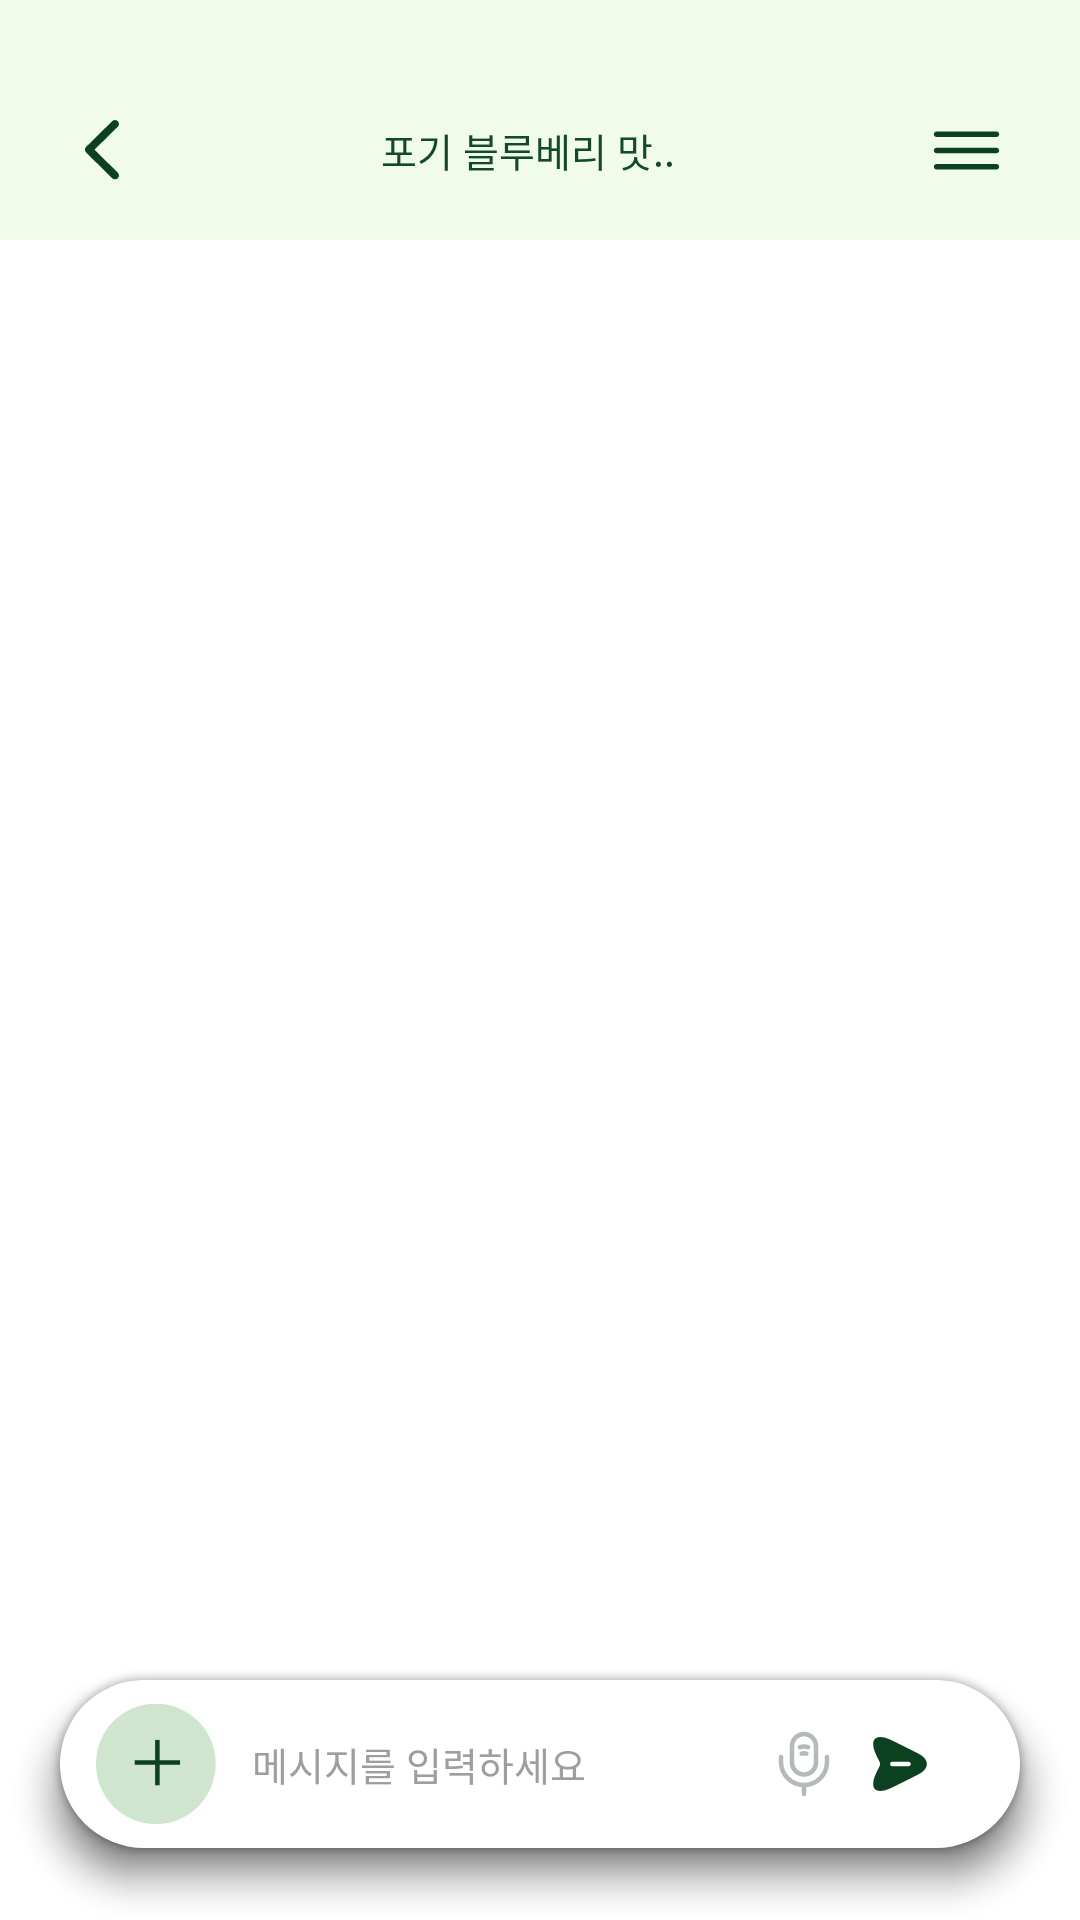

Named icons in this screenshot (1080 × 1920) and their centers, point (x, y):
뒤로가기: point (102, 150)
메뉴 열기: point (966, 150)
음성 검색: point (804, 1764)
추가: point (156, 1764)
텍스트 보내기: point (900, 1764)
